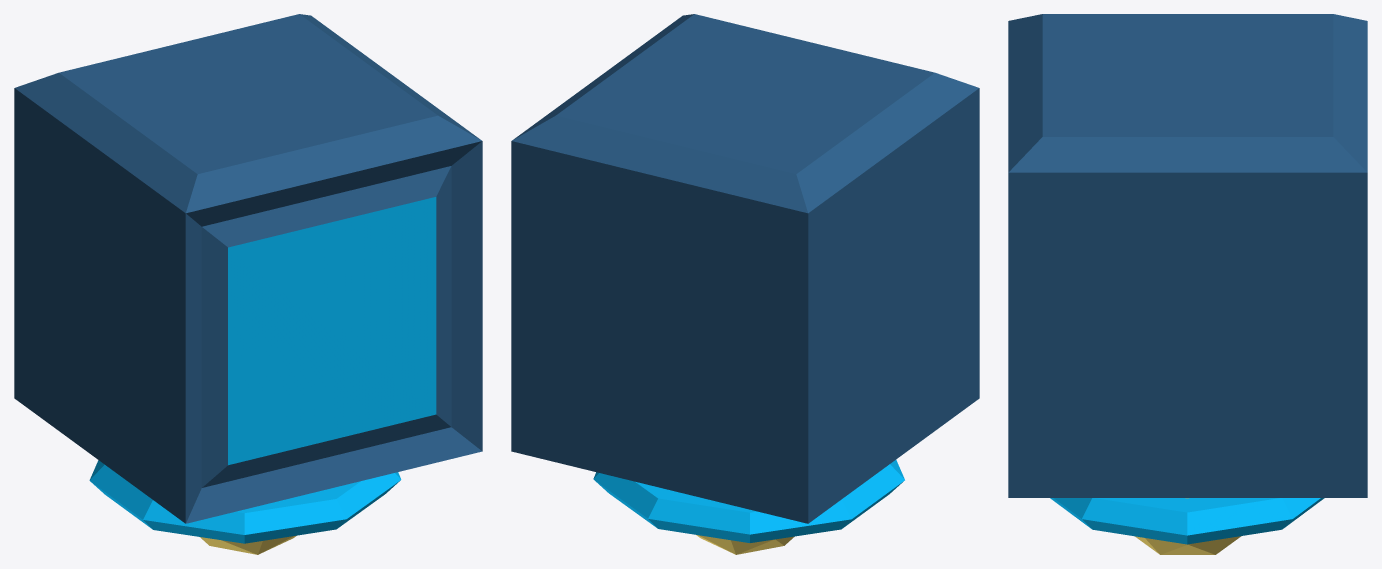
The model's file is Robo.gltf.
3 views of the same model, side by side, from view 1: azimuth 30°, elevation 25°; view 2: azimuth 150°, elevation 25°; view 3: azimuth 270°, elevation 25° (orthographic). The views are drawn at different scales.
Visible parts, largest first — view 1: Body, WheelControl, Wheel; view 2: Body, WheelControl, Wheel; view 3: Body, WheelControl, Wheel.
Part boxes in pixels (x1,y1,x2,y2): Body: (14, 14, 482, 523); WheelControl: (89, 460, 401, 543); Wheel: (200, 535, 296, 554); Body: (511, 14, 979, 523); WheelControl: (593, 460, 904, 542); Wheel: (696, 535, 794, 554); Body: (1008, 14, 1367, 497); WheelControl: (1050, 498, 1324, 544); Wheel: (1135, 498, 1241, 554).
Bounding box in the file's own units: 1 × 1.46 × 1.
